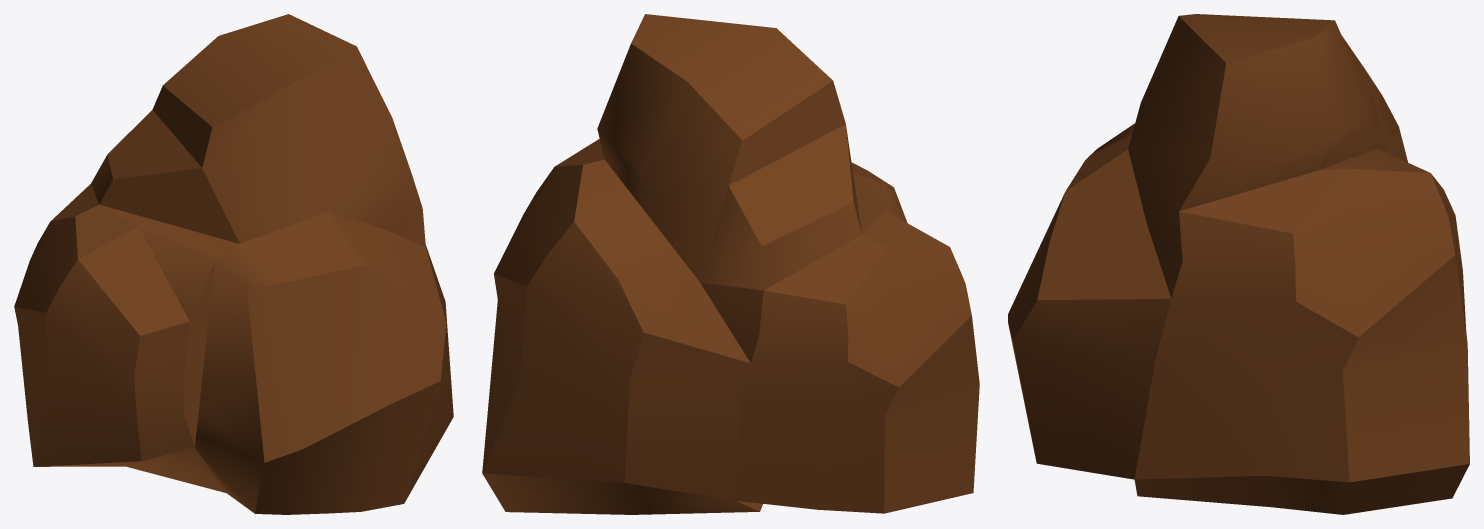
Rendered from rock-2.glb.
3 views of the same model, side by side, from view 1: azimuth 30°, elevation 25°; view 2: azimuth 150°, elevation 25°; view 3: azimuth 270°, elevation 25° (orthographic). The views are drawn at different scales.
Parts seen in each view (by area): view 1: Rock_2; view 2: Rock_2; view 3: Rock_2.
Part boxes in pixels (x1,y1,x2,y2): Rock_2: [14, 14, 453, 514]; Rock_2: [482, 14, 979, 514]; Rock_2: [1008, 14, 1469, 514].
Size of the model in its own units: 2.74 by 2.71 by 2.52.
